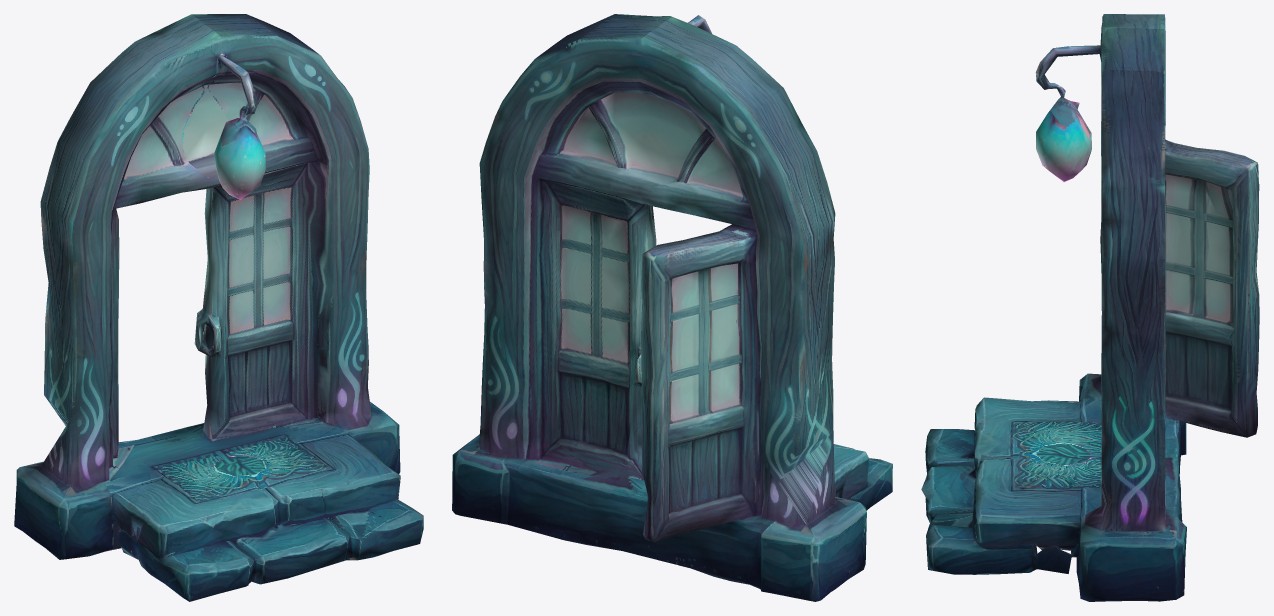
Rendered from ShopDoor_VARCO.fbx.
3 views of the same model, side by side, from view 1: azimuth 30°, elevation 25°; view 2: azimuth 150°, elevation 25°; view 3: azimuth 270°, elevation 25° (orthographic). The views are drawn at different scales.
Visible parts, largest first — view 1: texture_mapping.015; view 2: texture_mapping.015; view 3: texture_mapping.015.
Boxes of the visible parts, x1=… form: texture_mapping.015: x1=14, y1=14, x2=423, y2=601; texture_mapping.015: x1=452, y1=14, x2=892, y2=601; texture_mapping.015: x1=921, y1=14, x2=1259, y2=601.
Size of the model in its own units: 0.7521 by 0.9987 by 0.6245.
Materials: 1 (1 with a texture image).
